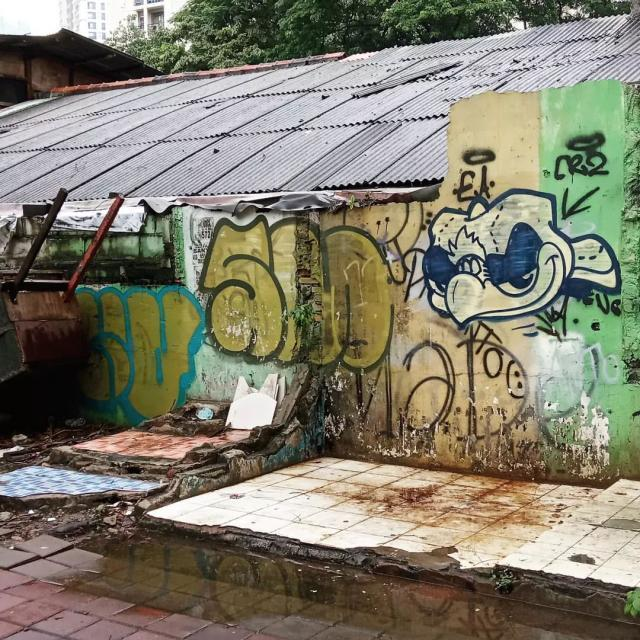nonspitting: (397, 132, 628, 458), (196, 217, 397, 369), (74, 280, 208, 428)
